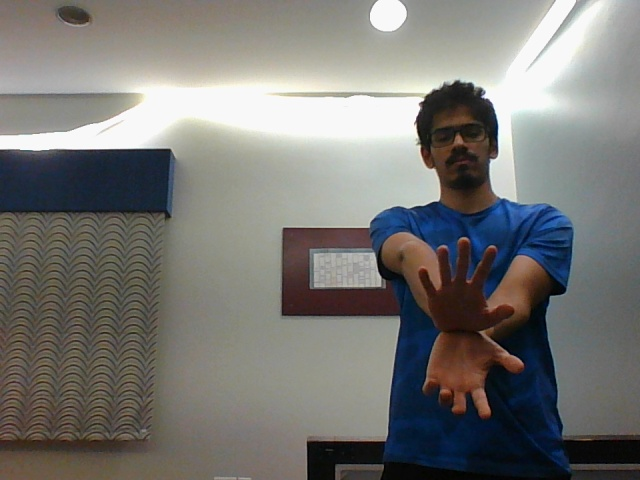blast: (410, 233, 530, 417)
